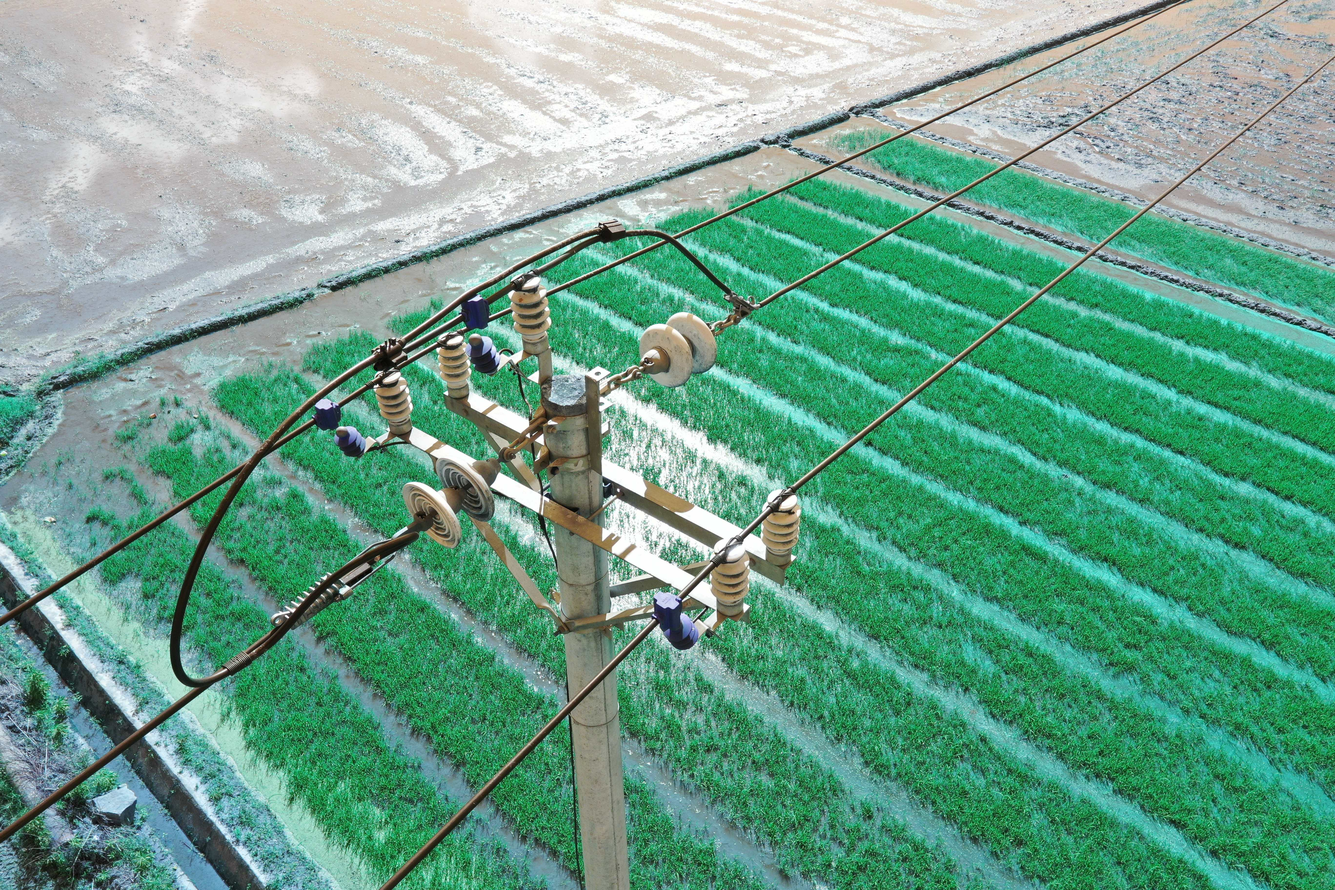severe_soiling_no_discharge_whole: (398, 453, 507, 551), (637, 308, 720, 390), (505, 271, 555, 355), (707, 536, 755, 618), (756, 485, 803, 567), (371, 367, 416, 436), (435, 329, 473, 399)
